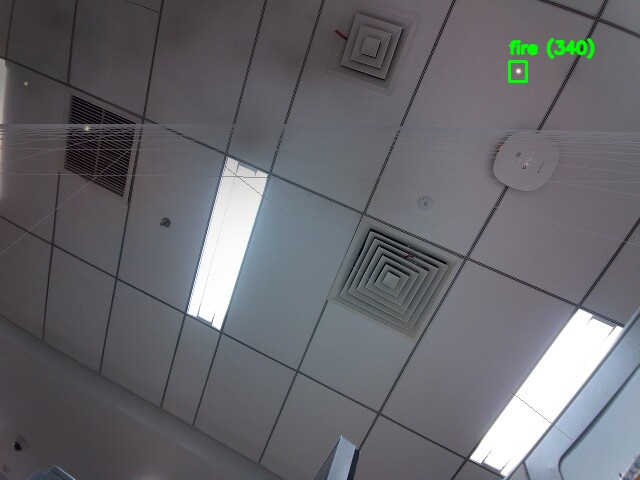fire: (509, 61, 526, 81)
